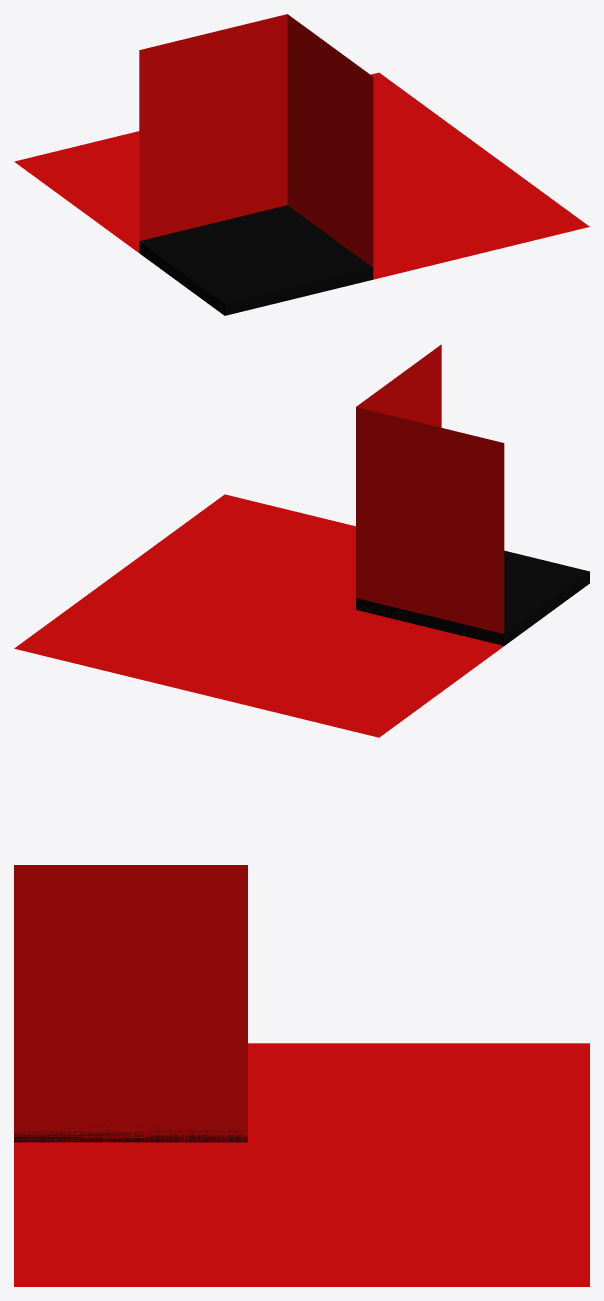
The picture shows the model from 3 angles, top to bottom: view 1: azimuth 30°, elevation 25°; view 2: azimuth 150°, elevation 25°; view 3: azimuth 270°, elevation 25°; orthographic projection. The views are drawn at different scales.
Parts seen in each view (by area): view 1: None_E_E_A_A_E_P_A_E_None; view 2: None_E_E_A_A_E_P_A_E_None; view 3: None_E_E_A_A_E_P_A_E_None.
Part boxes in pixels (<box>): None_E_E_A_A_E_P_A_E_None: <box>14,14,589,315</box>; None_E_E_A_A_E_P_A_E_None: <box>14,344,589,737</box>; None_E_E_A_A_E_P_A_E_None: <box>14,865,589,1286</box>.
Size of the model in its own units: 100 by 53.12 by 100.
